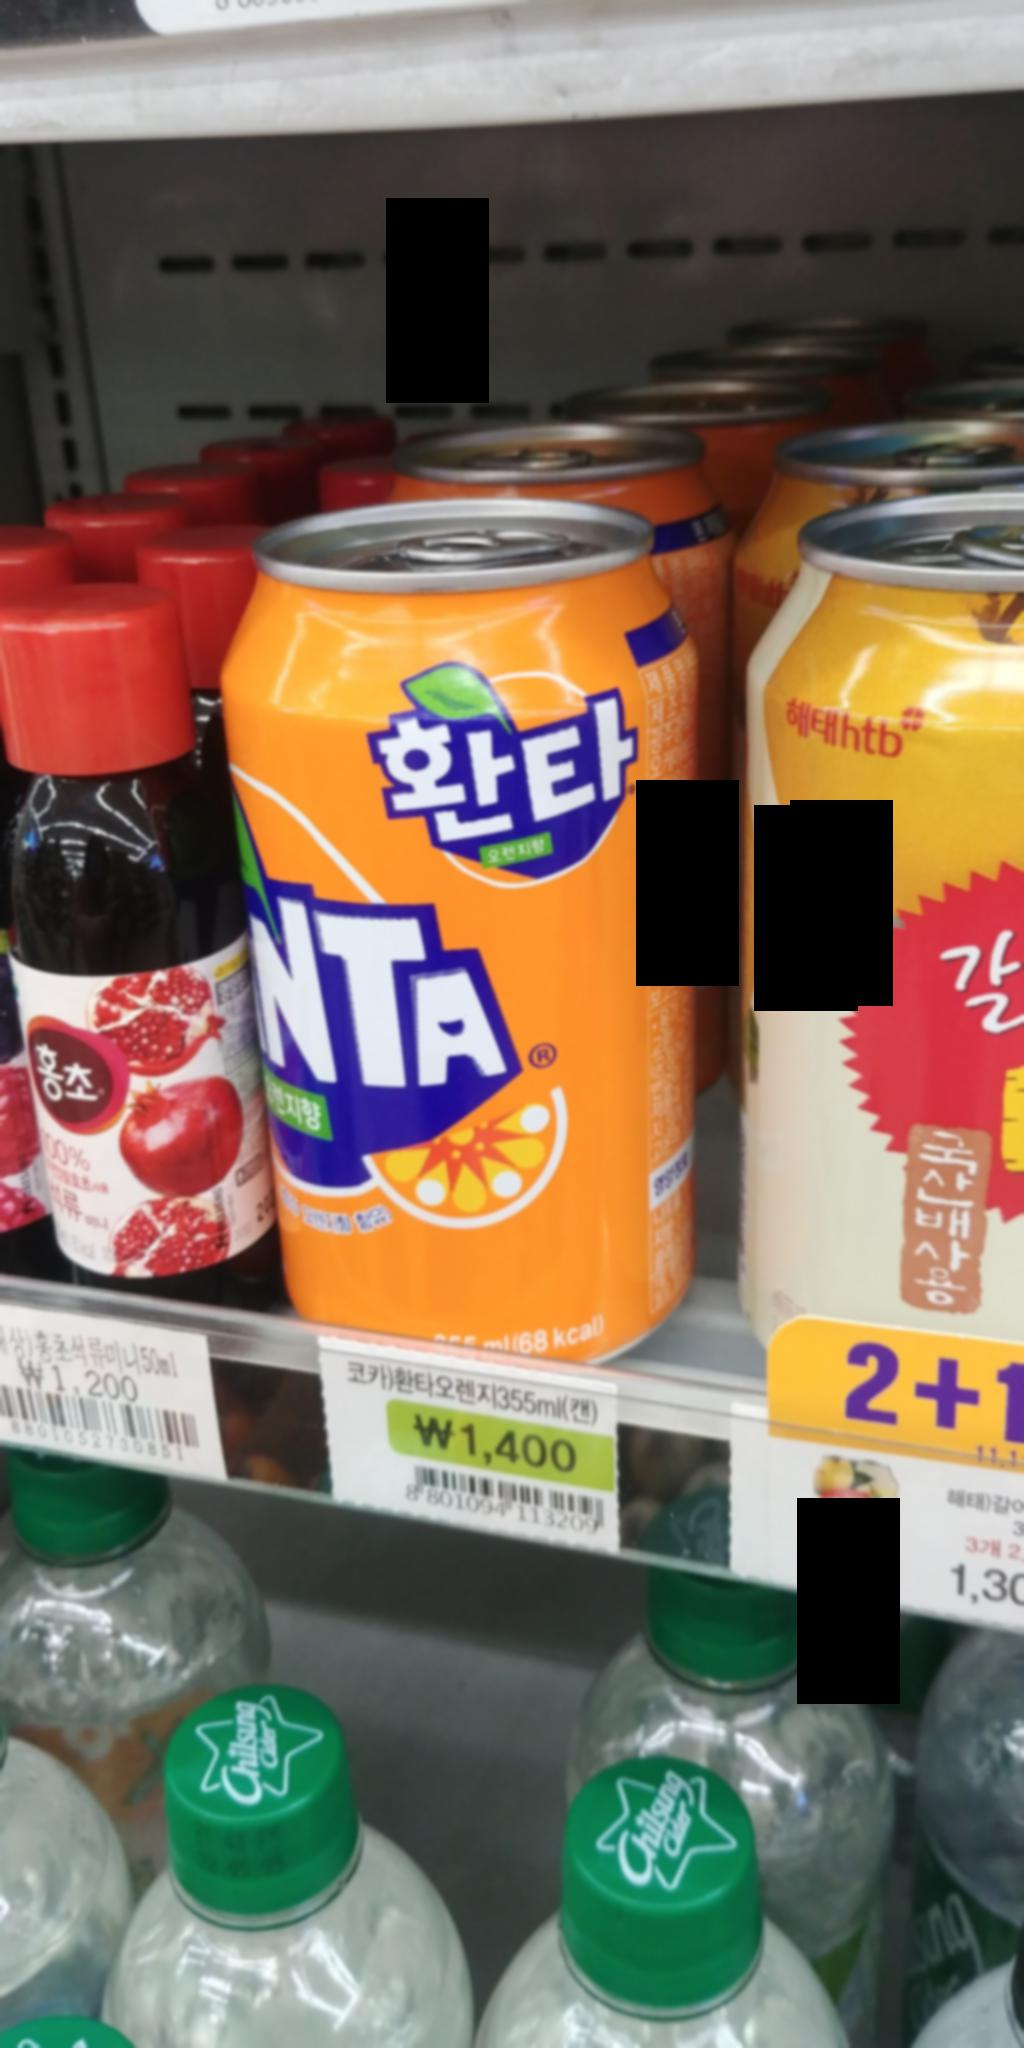fanta_orange: (213, 485, 725, 1368)
